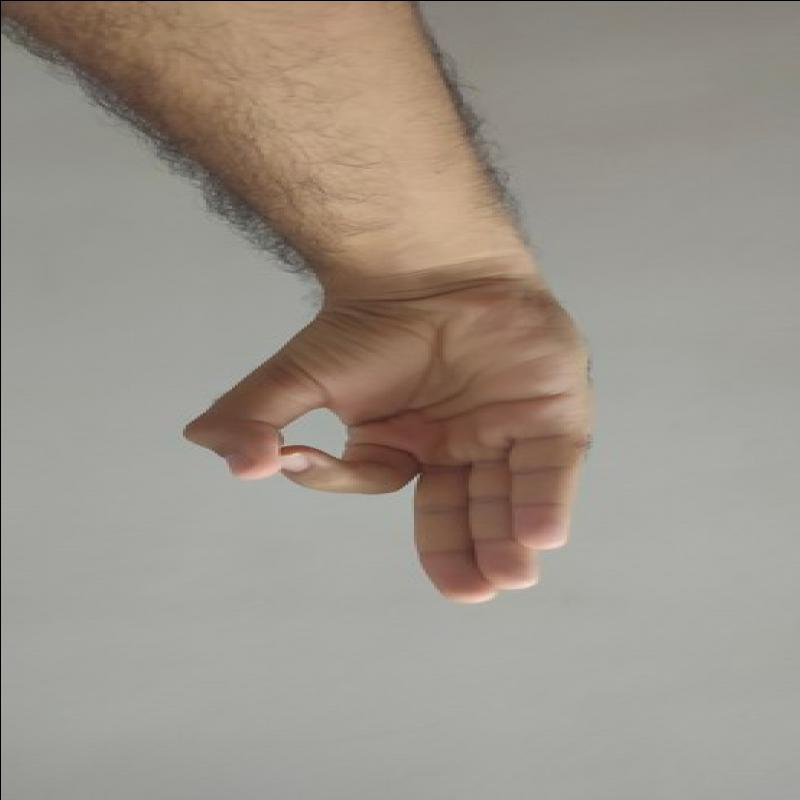Mudraakhyam: (175, 269, 622, 625)
